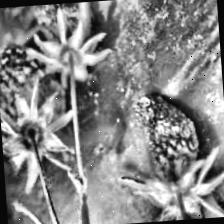Gray Mold: (22, 0, 116, 89)
